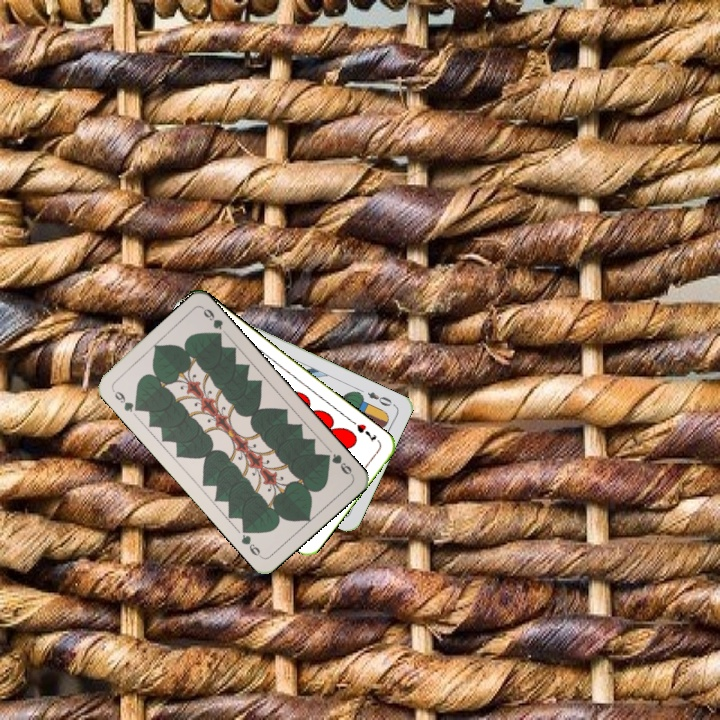EO: (363, 388, 398, 409)
G9: (320, 449, 356, 478), (108, 385, 143, 414)
H7: (352, 420, 379, 445)
